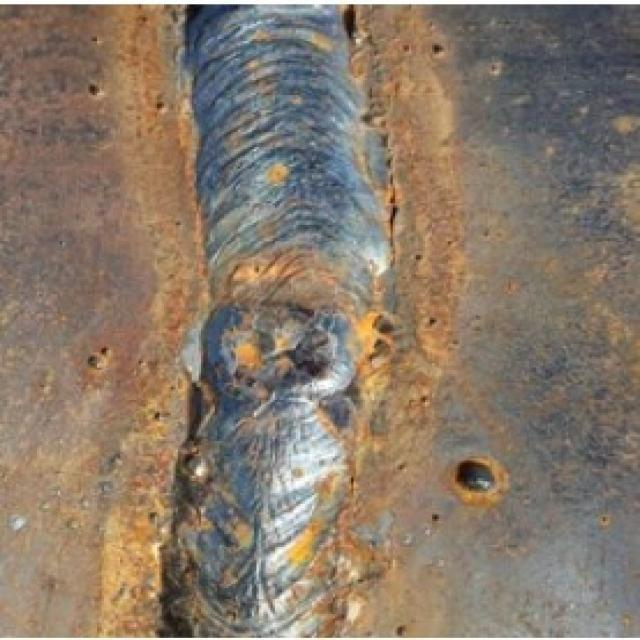Bad Weld: (155, 0, 400, 638)
Defect: (264, 328, 314, 382)
